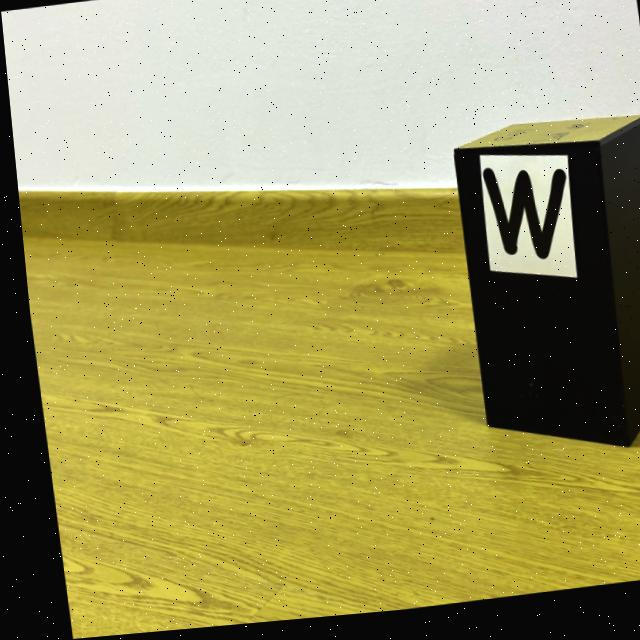W: (478, 177, 561, 268)
